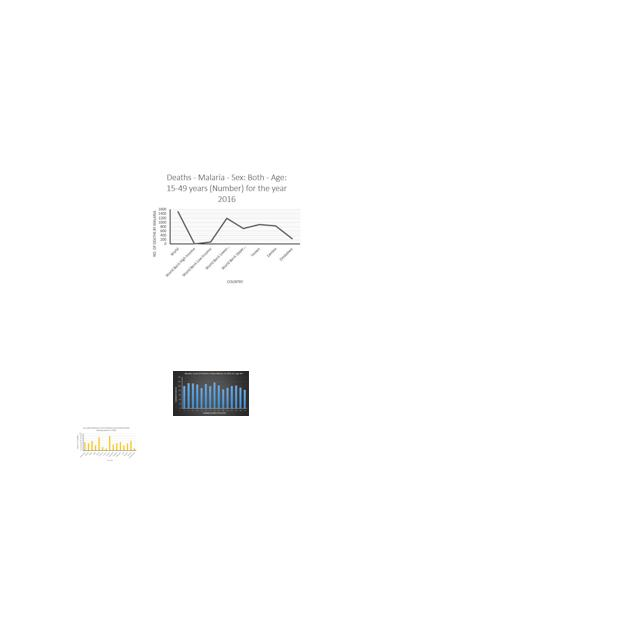Graph: (149, 171, 304, 287), (173, 371, 249, 416), (75, 426, 137, 462)
